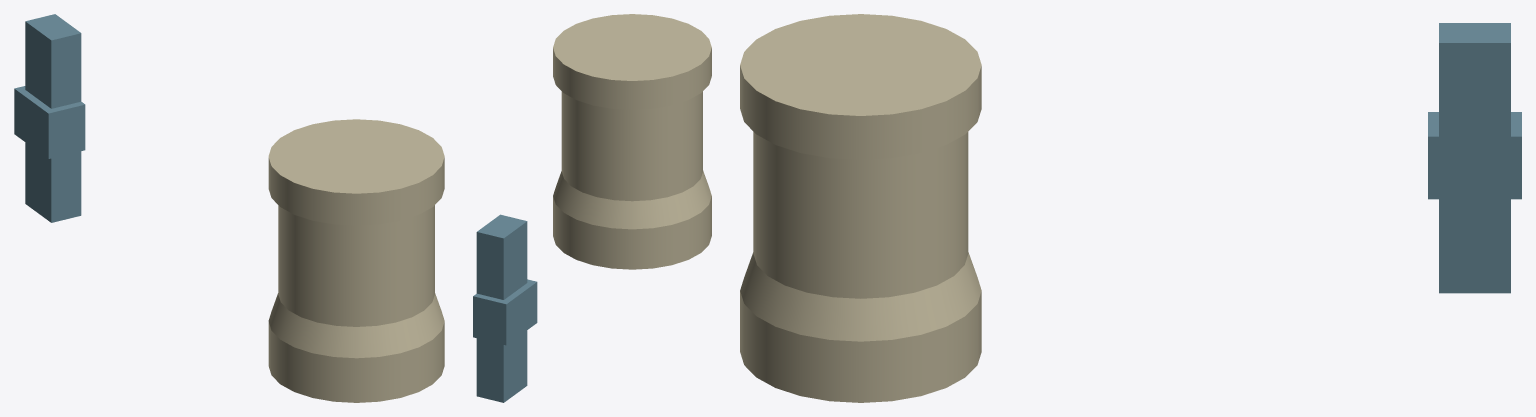
File: silo.glb
The picture shows the model from 3 angles, left to right: view 1: azimuth 30°, elevation 25°; view 2: azimuth 150°, elevation 25°; view 3: azimuth 270°, elevation 25°; orthographic projection. The views are drawn at different scales.
Size of the model in its own units: 8.15 by 9.17 by 22.65.
